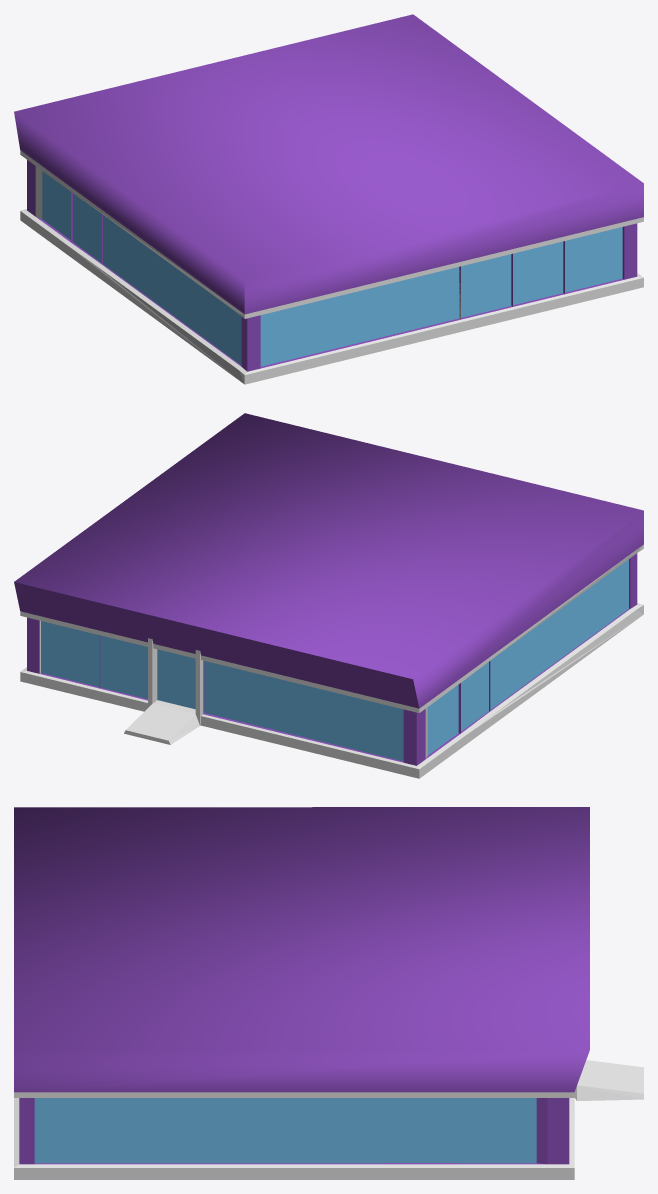
The model's file is Shop8x8x2Purple.fbx.
3 views of the same model, one above another, from view 1: azimuth 30°, elevation 25°; view 2: azimuth 150°, elevation 25°; view 3: azimuth 270°, elevation 25° (orthographic). The views are drawn at different scales.
Parts seen in each view (by area): view 1: Shop.001; view 2: Shop.001; view 3: Shop.001.
Boxes of the visible parts, x1,y1,x2,y2 form: Shop.001: (14,14,643,384); Shop.001: (14,413,643,778); Shop.001: (14,807,643,1179).
Bounding box in the file's own units: 7.96 × 1.98 × 8.72.
Materials: 1 (1 with a texture image).
